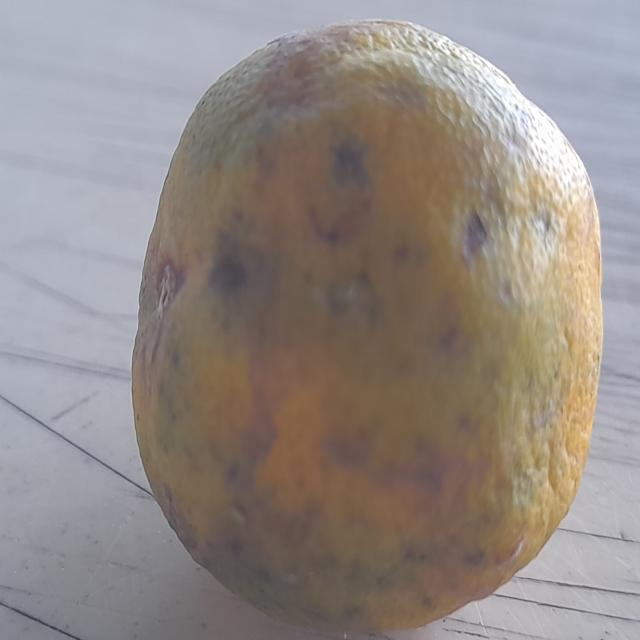black spot: (135, 17, 607, 620)
